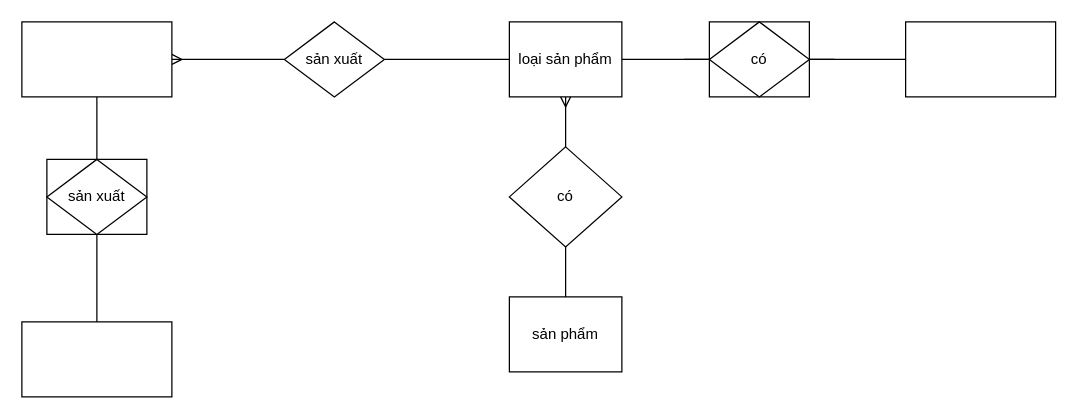
Image size: 1078x419. Some labels were removed from this diagram. The box of each missing label's shape, as (x1, y1, x2, y2) in pixels:
hãng sản xuất: (21, 21, 172, 97)
thể loại: (21, 321, 172, 397)
đợt giảm giá: (904, 21, 1056, 97)
